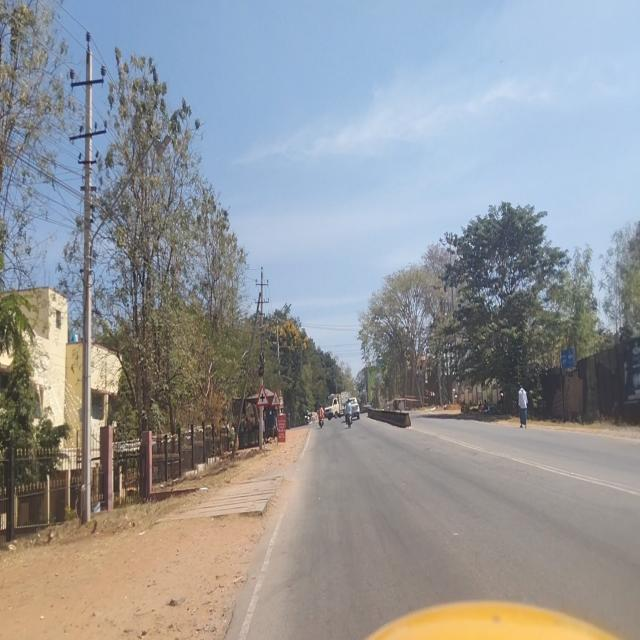bien_cam: (256, 386, 268, 406), (271, 388, 280, 407)
